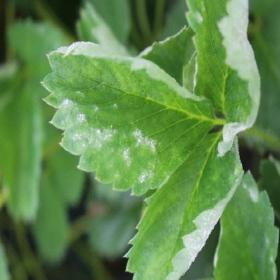Powdery Mildew Leaf: (39, 41, 219, 196), (122, 131, 244, 279), (184, 0, 262, 157), (212, 169, 279, 279), (136, 25, 198, 90)
